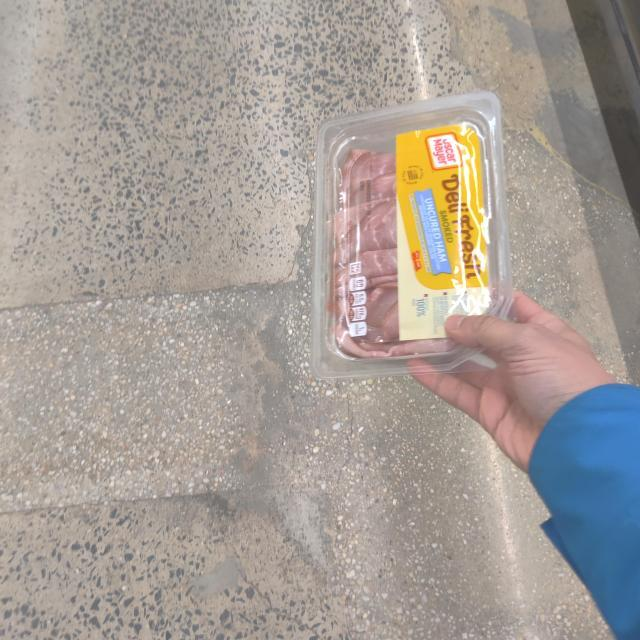Meat: (314, 91, 513, 370)
